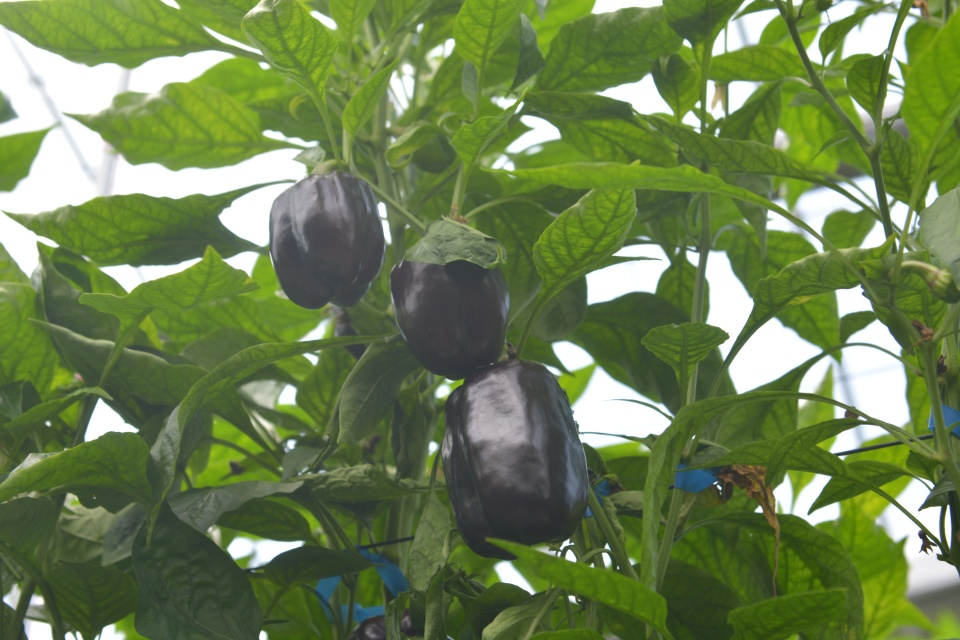fruit: (438, 359, 592, 562), (387, 218, 512, 381), (265, 171, 385, 312)
immature: (396, 116, 453, 176)
